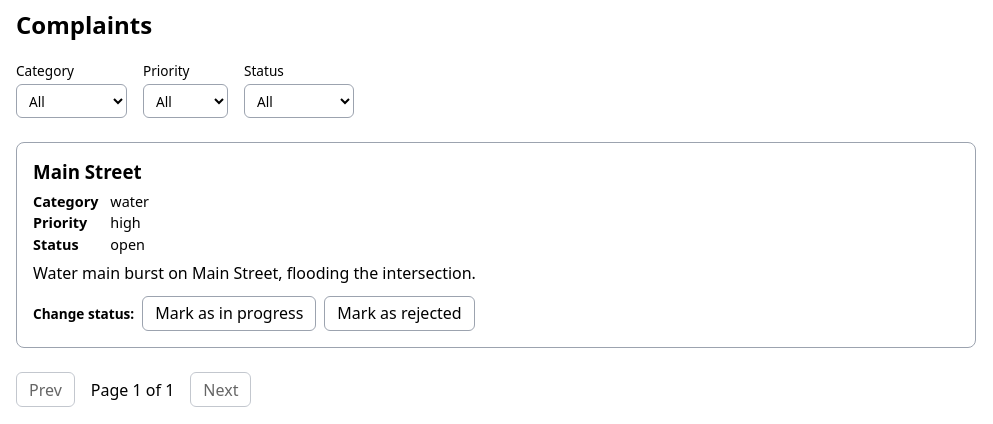
Test case: DashboardPage › a successful status change updates the displayed status without a full refetch
Step 1. Click the button "Mark as in progress" → (229,314), box 142,296 -> 316,331
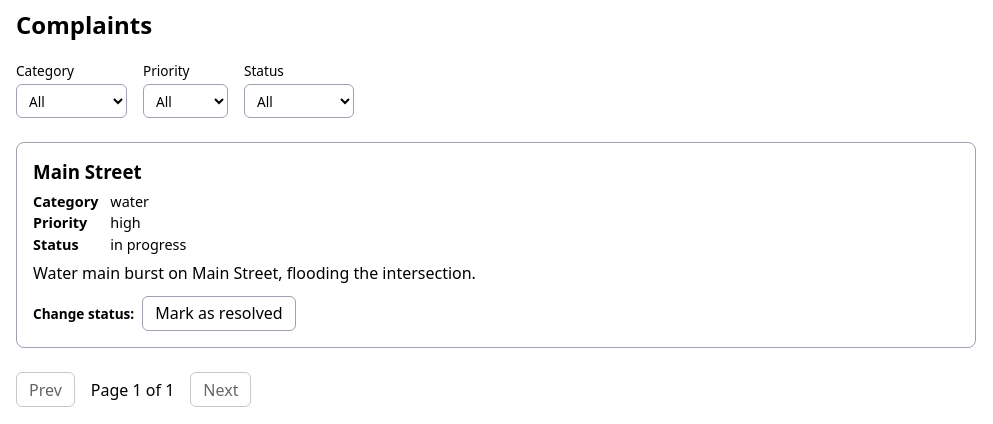
Expected: the list item shows "in progress", 110,235 -> 186,254
Expected: the button "Mark as resolved" is shown, 142,296 -> 296,331
Expected: the button "Mark as rejected" is gone
